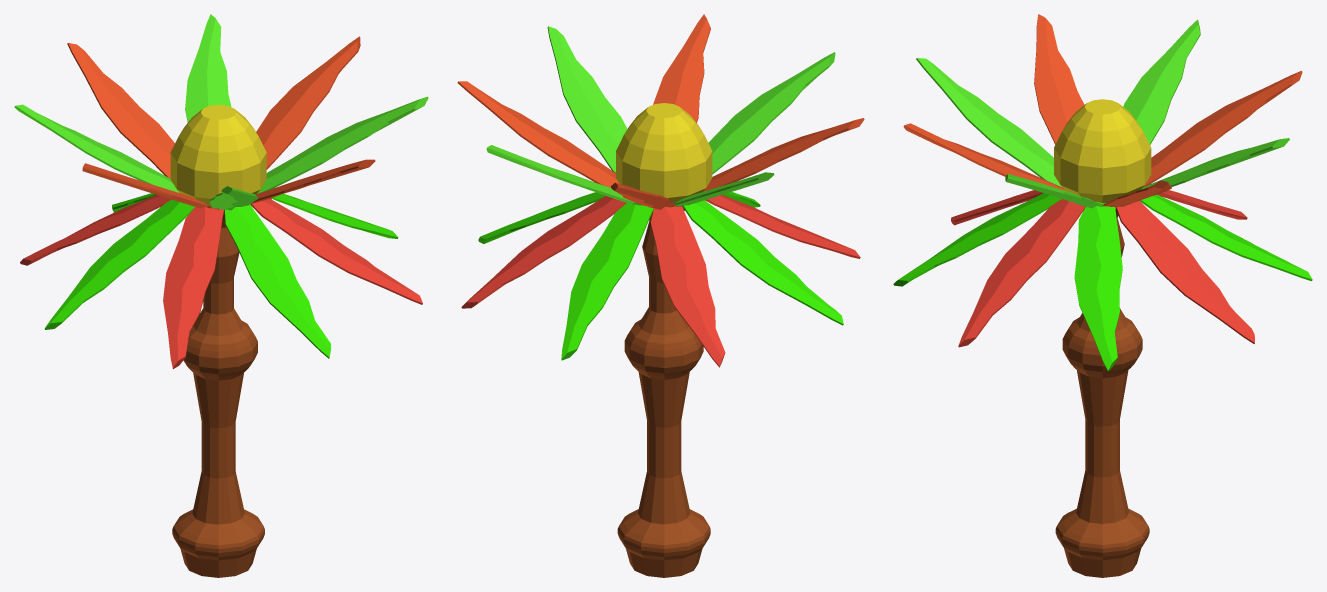
File: Kwaki Tree.fbx
The picture shows the model from 3 angles, left to right: view 1: azimuth 30°, elevation 25°; view 2: azimuth 150°, elevation 25°; view 3: azimuth 270°, elevation 25°; orthographic projection.
Visible parts, largest first — view 1: Plane.034; view 2: Plane.034; view 3: Plane.034.
Boxes of the visible parts, bbox=[...] form: Plane.034: bbox=[14, 14, 428, 577]; Plane.034: bbox=[457, 14, 864, 577]; Plane.034: bbox=[893, 14, 1312, 577].
Bounding box in the file's own units: 1047 × 1286 × 1047.
